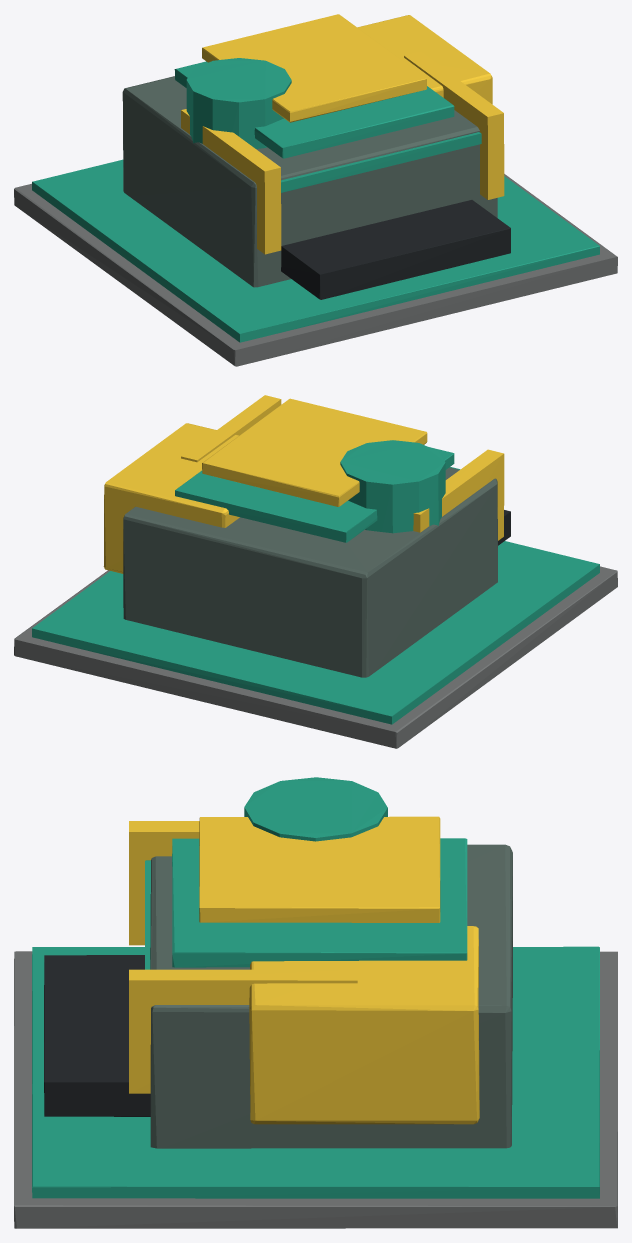
The model's file is SM_Coalition_CO_Refinery_LOD2.fbx.
3 renders of one model, top to bottom at view 1: azimuth 30°, elevation 25°; view 2: azimuth 150°, elevation 25°; view 3: azimuth 270°, elevation 25°, orthographic. The views are drawn at different scales.
Visible parts, largest first — view 1: LOD02_SM_Coalition_CO_Refinery; view 2: LOD02_SM_Coalition_CO_Refinery; view 3: LOD02_SM_Coalition_CO_Refinery.
Boxes of the visible parts, left/top/right/bottom form: LOD02_SM_Coalition_CO_Refinery: left=14, top=14, right=617, bottom=366; LOD02_SM_Coalition_CO_Refinery: left=14, top=395, right=617, bottom=748; LOD02_SM_Coalition_CO_Refinery: left=14, top=777, right=617, bottom=1228.
Size of the model in its own units: 799 by 798 by 355.
